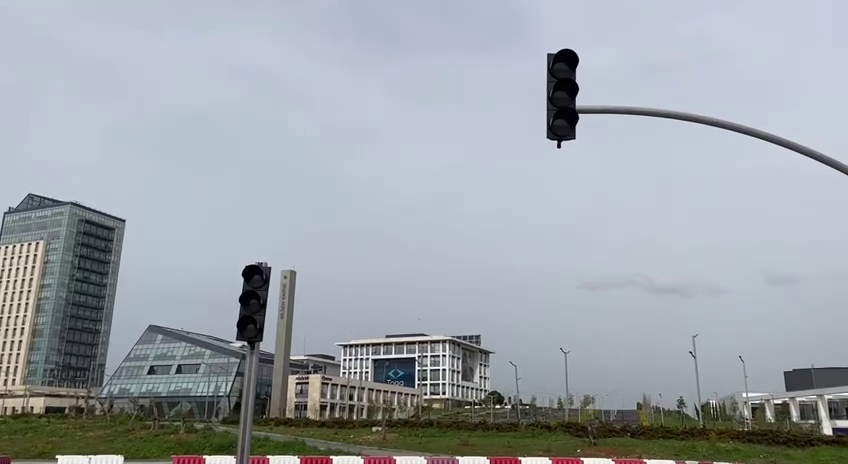trafficLight: (541, 45, 581, 149), (234, 258, 275, 345)
